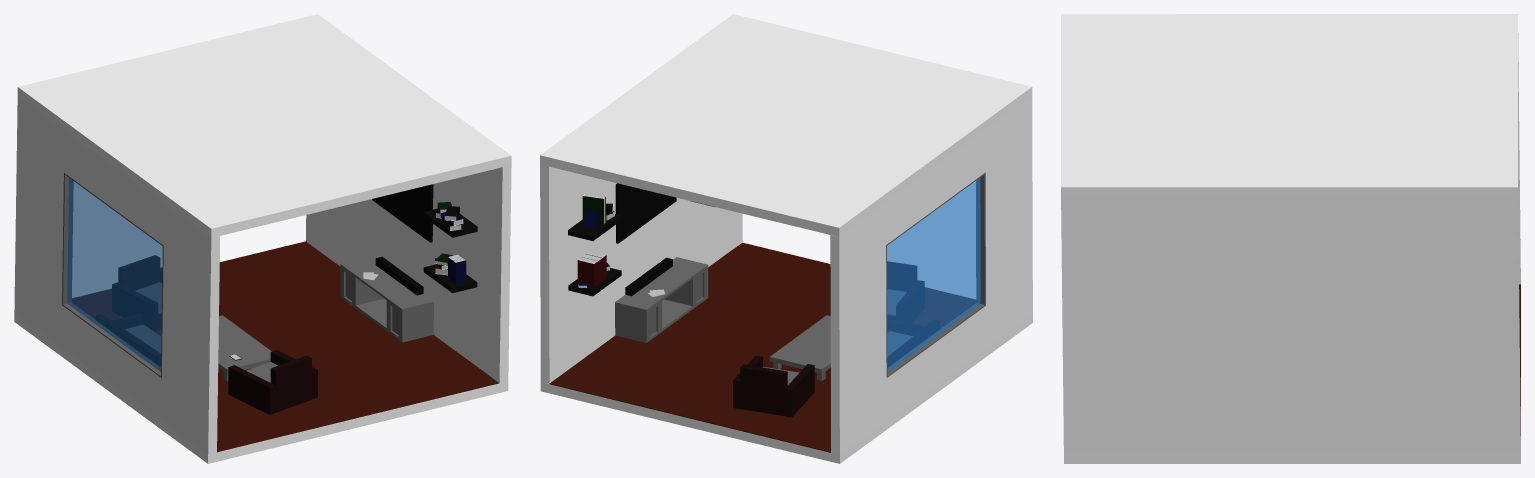
File: Reference.glb
The picture shows the model from 3 angles, left to right: view 1: azimuth 30°, elevation 25°; view 2: azimuth 150°, elevation 25°; view 3: azimuth 270°, elevation 25°; orthographic projection. The views are drawn at different scales.
Visible parts, largest first — view 1: object 5, Cube (×12), object 4, object 2, object 7, object 3; view 2: object 5, Cube (×13), object 4, object 2, object 7, object 3; view 3: object 2, object 5, object 3.
Part boxes in pixels (left/top/right/bottom): object 5: left=17, top=14, right=511, bottom=237; Cube (×12): left=62, top=173, right=498, bottom=452; object 4: left=14, top=96, right=220, bottom=454; object 2: left=306, top=165, right=511, bottom=383; object 7: left=67, top=178, right=162, bottom=371; object 3: left=14, top=313, right=508, bottom=463; object 5: left=540, top=14, right=1032, bottom=236; Cube (×13): left=549, top=172, right=985, bottom=452; object 4: left=830, top=96, right=1032, bottom=454; object 2: left=540, top=164, right=742, bottom=383; object 7: left=887, top=178, right=980, bottom=371; object 3: left=540, top=314, right=1032, bottom=463; object 2: left=1061, top=198, right=1520, bottom=452; object 5: left=1061, top=14, right=1517, bottom=197; object 3: left=1064, top=453, right=1520, bottom=463.
Size of the model in its own units: 17.11 by 12.77 by 19.12.
